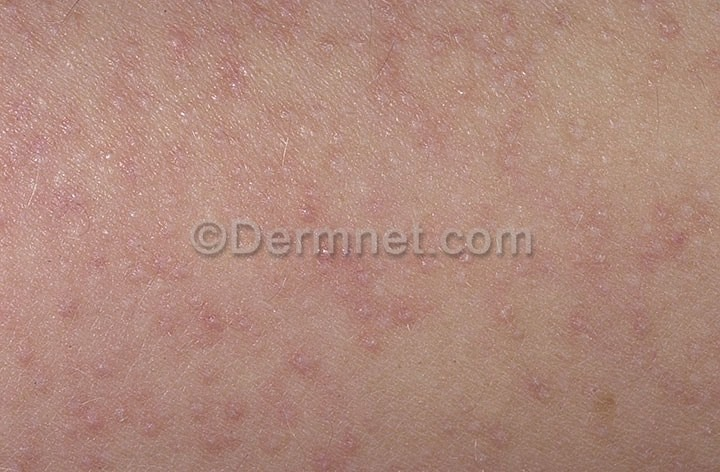Eczema: (4, 1, 720, 472)
